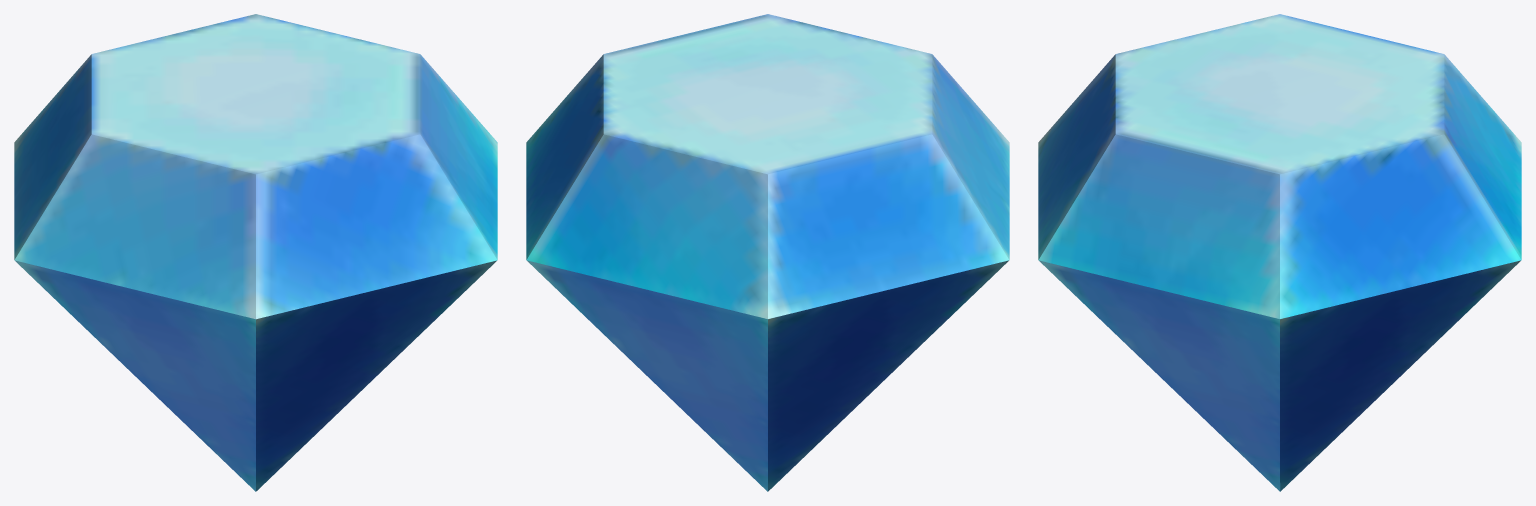
Rendered from zuanshi.fbx.
3 renders of one model, left to right at view 1: azimuth 30°, elevation 25°; view 2: azimuth 150°, elevation 25°; view 3: azimuth 270°, elevation 25°, orthographic.
Parts seen in each view (by area): view 1: zuanshi1; view 2: zuanshi1; view 3: zuanshi1.
Part boxes in pixels (<box>): zuanshi1: <box>14,14,497,491</box>; zuanshi1: <box>526,14,1009,491</box>; zuanshi1: <box>1038,14,1521,491</box>.
Size of the model in its own units: 1.22 by 0.9673 by 1.06.
